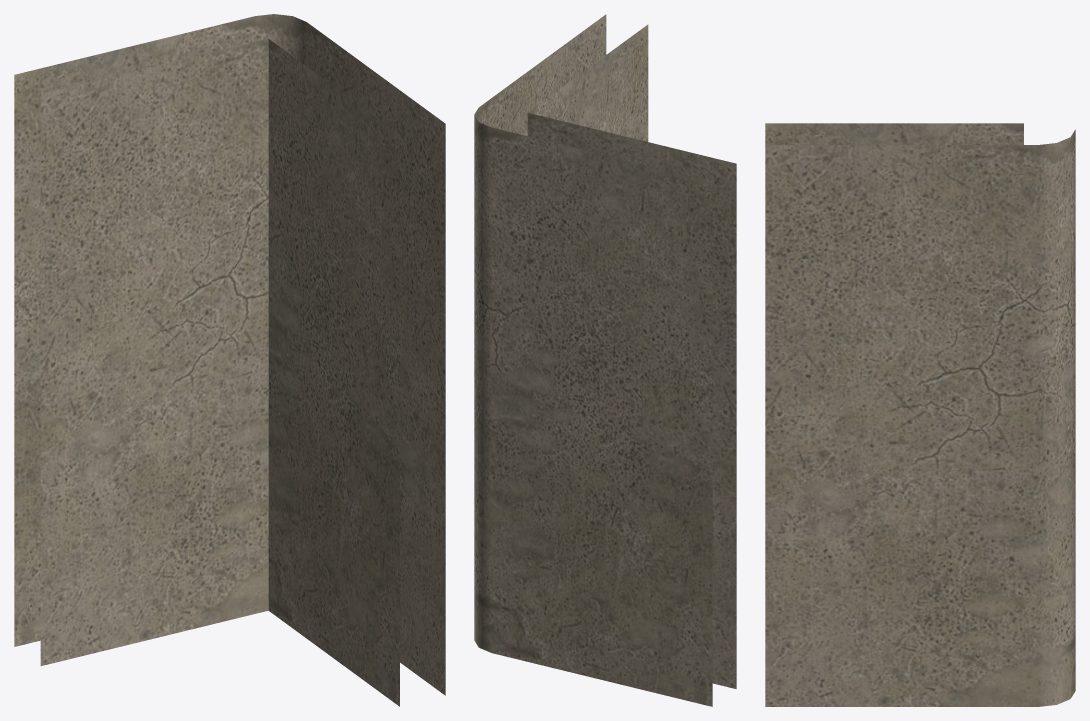
File: ARC1010256.fbx
3 views of the same model, side by side, from view 1: azimuth 30°, elevation 25°; view 2: azimuth 150°, elevation 25°; view 3: azimuth 270°, elevation 25° (orthographic). The views are drawn at different scales.
Parts seen in each view (by area): view 1: smARC1010256; view 2: smARC1010256; view 3: smARC1010256.
Part boxes in pixels (bbox=[...]): smARC1010256: bbox=[14, 14, 445, 706]; smARC1010256: bbox=[474, 14, 736, 706]; smARC1010256: bbox=[765, 123, 1075, 706].
Bounding box in the file's own units: 134 × 268 × 134.
Materials: 1 (1 with a texture image).
